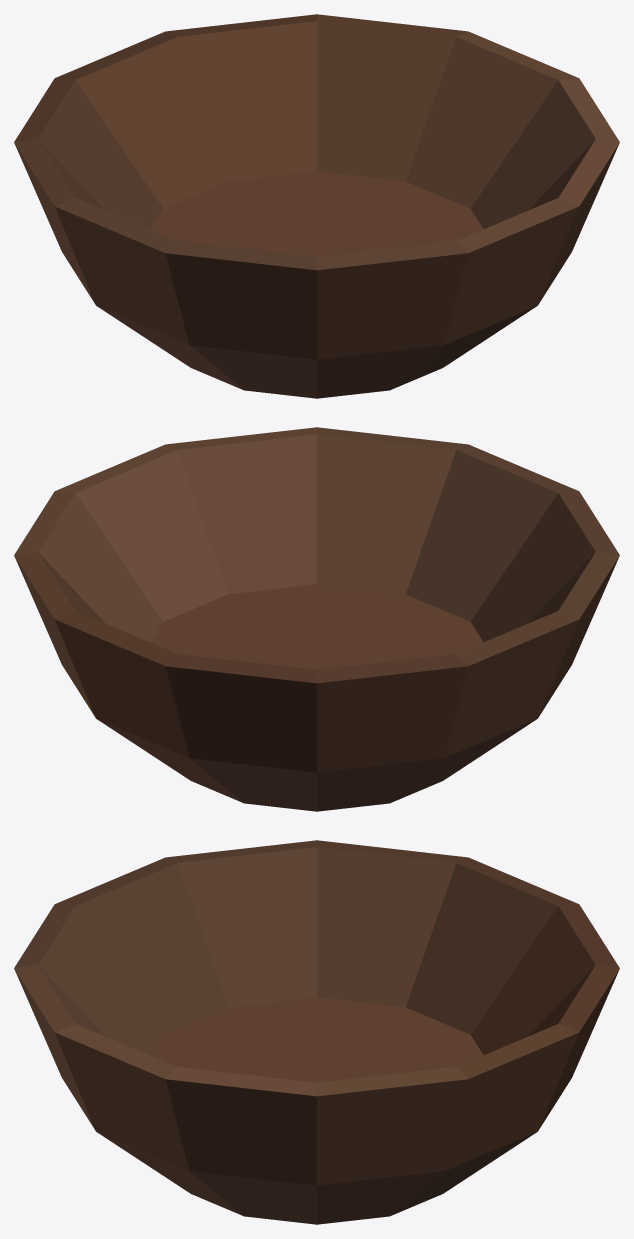
File: Prop_BowlMediumA.fbx
The picture shows the model from 3 angles, top to bottom: view 1: azimuth 30°, elevation 25°; view 2: azimuth 150°, elevation 25°; view 3: azimuth 270°, elevation 25°; orthographic projection.
Visible parts, largest first — view 1: Prop_BowlMediumA; view 2: Prop_BowlMediumA; view 3: Prop_BowlMediumA.
Part boxes in pixels (x1,y1,x2,y2): Prop_BowlMediumA: [14, 14, 619, 398]; Prop_BowlMediumA: [14, 427, 619, 811]; Prop_BowlMediumA: [14, 840, 619, 1224].
Bounding box in the file's own units: 26.68 × 9.63 × 26.68.
